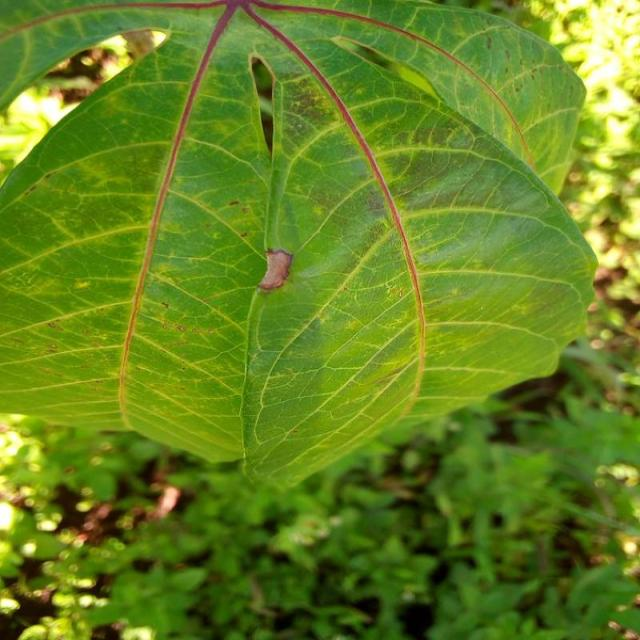cassava leaf: (1, 0, 598, 490)
